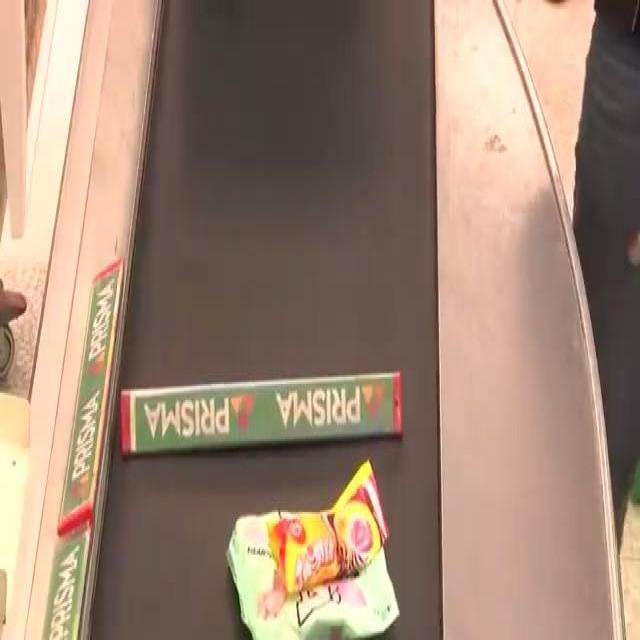food-box: (235, 483, 404, 625), (272, 478, 382, 603)
